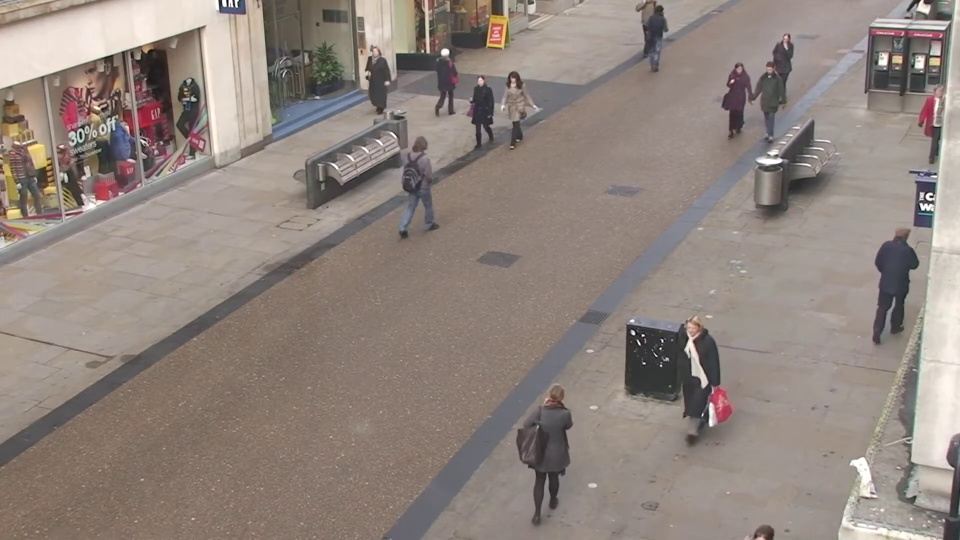pedestrian: (533, 371, 584, 532), (659, 314, 710, 462), (875, 211, 927, 334), (411, 129, 446, 228), (751, 63, 781, 146), (464, 73, 493, 157), (499, 69, 528, 152), (721, 62, 750, 143), (768, 37, 797, 112), (359, 47, 387, 123), (437, 40, 464, 114), (649, 3, 672, 68)
